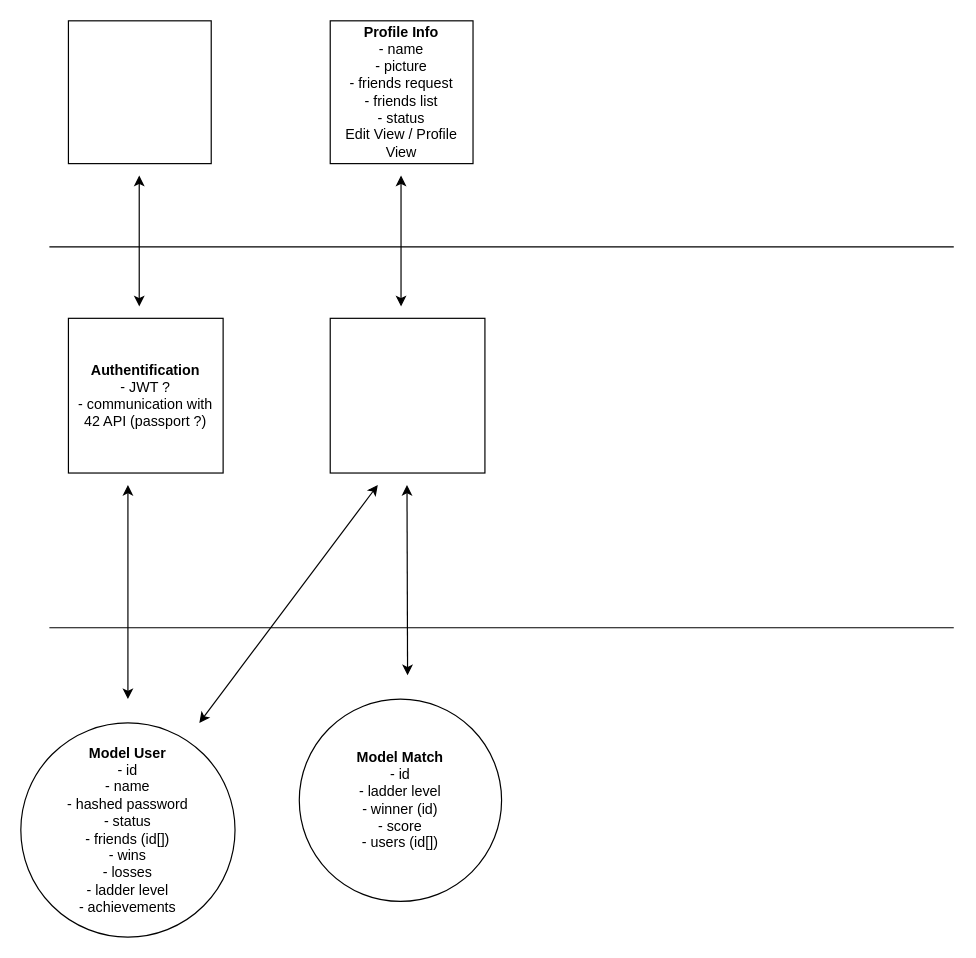
Image size: 976x958. Some labels were removed from this diagram. The box of each missing label's shape, as (x1, y1, x2, y2) in pixels:
Authentification - 42 Login View - 2FA View: (67, 20, 211, 164)
Profile - retrieve user data - list of users: (329, 317, 485, 473)
